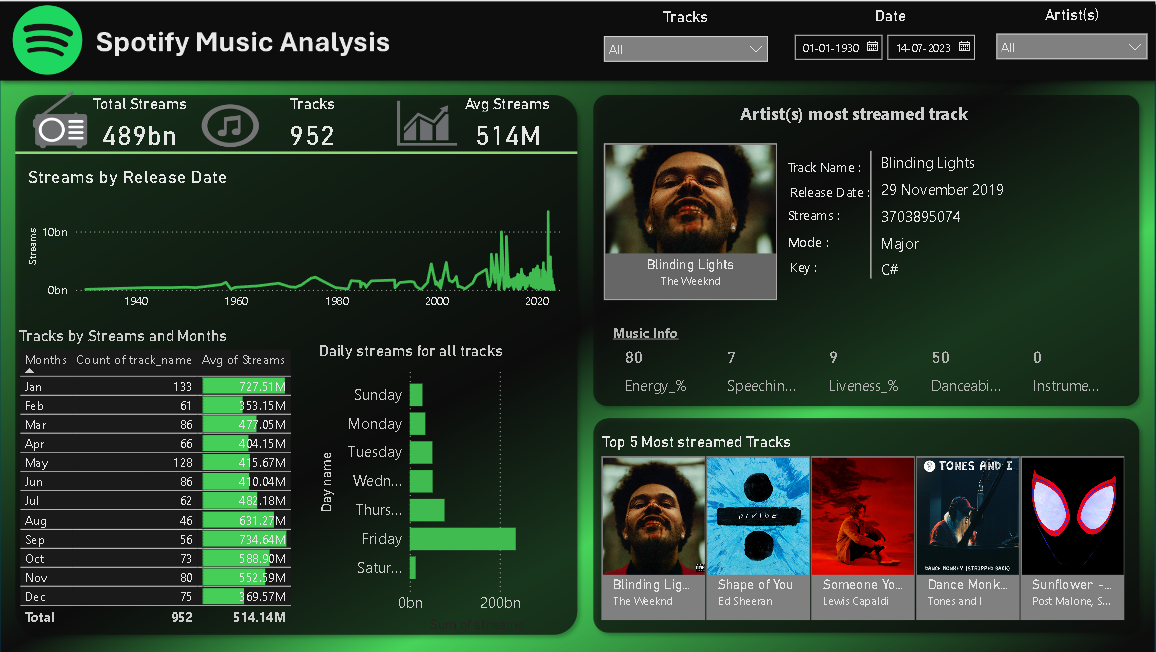

The page's visual inventory and layout, read from the dashboard file:
{"tool":"powerbi","page":{"name":"Page 1","canvas":[1280,720],"ordinal":0},"visuals":[{"type":"card","title":"Total Streams","fields":{"Values":["Sum(Spotify Dataset.streams)"]},"box":[89.2,104.3,135.8,65.9],"z":0},{"type":"card","title":"Avg Streams","fields":{"Values":["Avg(Spotify Dataset.streams)"]},"box":[492.6,104.3,135.8,65.9],"z":1000},{"type":"card","title":"Tracks","fields":{"Values":["CountNonNull(Spotify Dataset.track_name)"]},"box":[278.6,104.3,135.8,65.9],"z":2000},{"type":"lineChart","title":"Streams by Release Date","fields":{"Y":["Sum(Spotify Dataset.streams)"],"Category":["Calendar.Date"]},"box":[28.6,184.3,600,165.7],"z":3000},{"type":"tableEx","title":"Tracks by Streams and Months","fields":{"Values":["Calendar.Month name ","Spotify Dataset.track_name","Avg(Spotify Dataset.streams)"]},"box":[18.6,360,328.6,340],"z":4000},{"type":"clusteredBarChart","title":"Daily streams for all tracks","fields":{"Y":["Sum(Spotify Dataset.streams)"],"Category":["Calendar.Day name"]},"box":[348,376,281,324],"z":5000},{"type":"textbox","box":[811.4,108.6,295.7,40],"z":6000},{"type":"advancedSlicerVisual","fields":{"Values":["Spotify Dataset.track_name"]},"box":[661.4,154.3,200,182.9],"z":7000},{"type":"multiRowCard","fields":{"Values":["Spotify Dataset.track_name","Spotify Dataset.Date","Sum(Spotify Dataset.streams)","Spotify Dataset.mode","Spotify Dataset.key"]},"box":[954,161.4,218.9,155.7],"z":8000},{"type":"textbox","box":[863.4,168.6,158.6,41.4],"z":9000},{"type":"textbox","box":[866.3,195.7,110,30],"z":10000},{"type":"textbox","box":[862.9,222.9,107.1,31.4],"z":11000},{"type":"textbox","box":[862.6,251.1,107.1,31.4],"z":12000},{"type":"textbox","box":[866,278.3,107.1,30],"z":13000},{"type":"cardVisual","fields":{"Data":["Sum(Spotify Dataset.energy_%)","Sum(Spotify Dataset.speechiness_%)","Sum(Spotify Dataset.liveness_%)","Sum(Spotify Dataset.danceability_%)","Sum(Spotify Dataset.instrumentalness_%)"]},"box":[672.9,365.7,564.3,79.1],"z":14000},{"type":"textbox","box":[671.4,350.9,137.1,35.7],"z":15000},{"type":"advancedSlicerVisual","title":"Top 5 Most streamed Tracks","fields":{"Values":["Spotify Dataset.track_name"]},"box":[658.6,475.7,587.7,211.4],"z":16000},{"type":"slicer","title":"Tracks","fields":{"Values":["Spotify Dataset.track_name"]},"box":[655.4,9.7,200,78.6],"z":17000},{"type":"slicer","title":"Date","fields":{"Values":["Calendar.Date"]},"box":[862.9,8.6,235.4,78.6],"z":18000},{"type":"slicer","title":"Artist(s)","fields":{"Values":["Spotify Dataset.artist(s)_name"]},"box":[1087.1,7.1,185.7,70],"z":19000}]}

Visuals, with their boxes in screenshot pixels (x1, y1, x2, y2), scaled from the page's 1280x720 canvas onto the 1156x652 screenshot:
"Total Streams" card: BBox(81, 94, 203, 154)
"Avg Streams" card: BBox(445, 94, 568, 154)
"Tracks" card: BBox(252, 94, 374, 154)
"Streams by Release Date" lineChart: BBox(26, 167, 568, 317)
"Tracks by Streams and Months" tableEx: BBox(17, 326, 314, 634)
"Daily streams for all tracks" clusteredBarChart: BBox(314, 340, 568, 634)
textbox: BBox(733, 98, 1000, 135)
advancedSlicerVisual - Spotify Dataset.track_name: BBox(597, 140, 778, 305)
multiRowCard - Spotify Dataset.track_name x Spotify Dataset.Date: BBox(862, 146, 1059, 287)
textbox: BBox(780, 153, 923, 190)
textbox: BBox(782, 177, 882, 204)
textbox: BBox(779, 202, 876, 230)
textbox: BBox(779, 227, 876, 256)
textbox: BBox(782, 252, 879, 279)
cardVisual - Sum(Spotify Dataset.energy_%) x Sum(Spotify Dataset.speechiness_%): BBox(608, 331, 1117, 403)
textbox: BBox(606, 318, 730, 350)
"Top 5 Most streamed Tracks" advancedSlicerVisual: BBox(595, 431, 1126, 622)
"Tracks" slicer: BBox(592, 9, 773, 80)
"Date" slicer: BBox(779, 8, 992, 79)
"Artist(s)" slicer: BBox(982, 6, 1149, 70)
